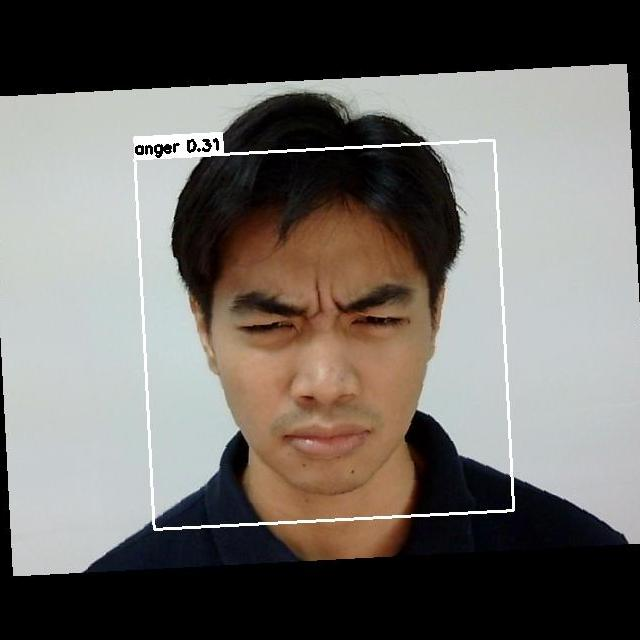Angry: (200, 253, 453, 472)
